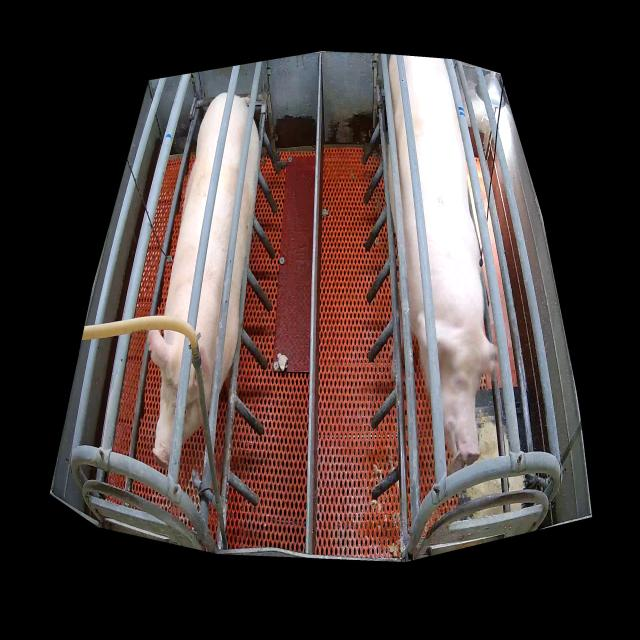pig: (388, 57, 499, 465), (148, 93, 259, 466)
